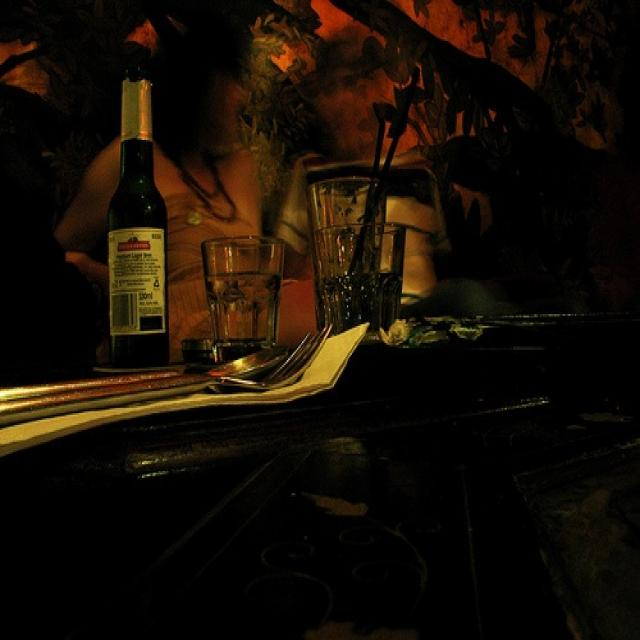bottle: (109, 65, 171, 365)
